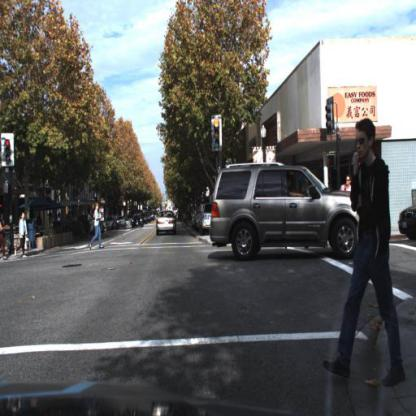car: (209, 162, 367, 269), (154, 205, 182, 241), (131, 213, 146, 229)
pedestrian: (321, 116, 408, 393), (87, 199, 107, 255), (14, 210, 32, 260), (2, 208, 9, 264)
trafficLight: (1, 129, 16, 170), (211, 111, 225, 149)
